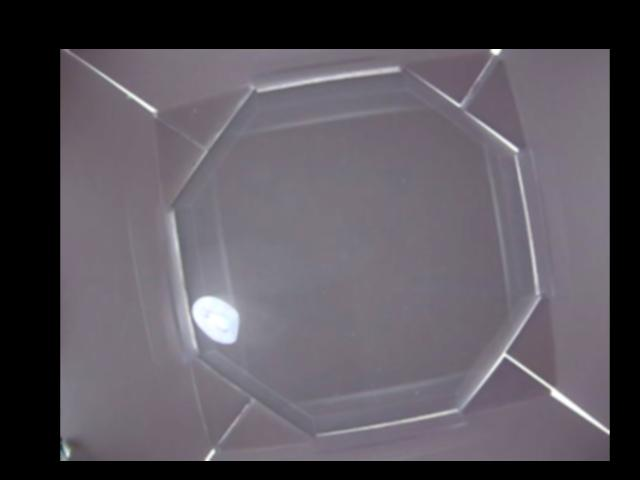Pebble: (191, 293, 243, 344)
